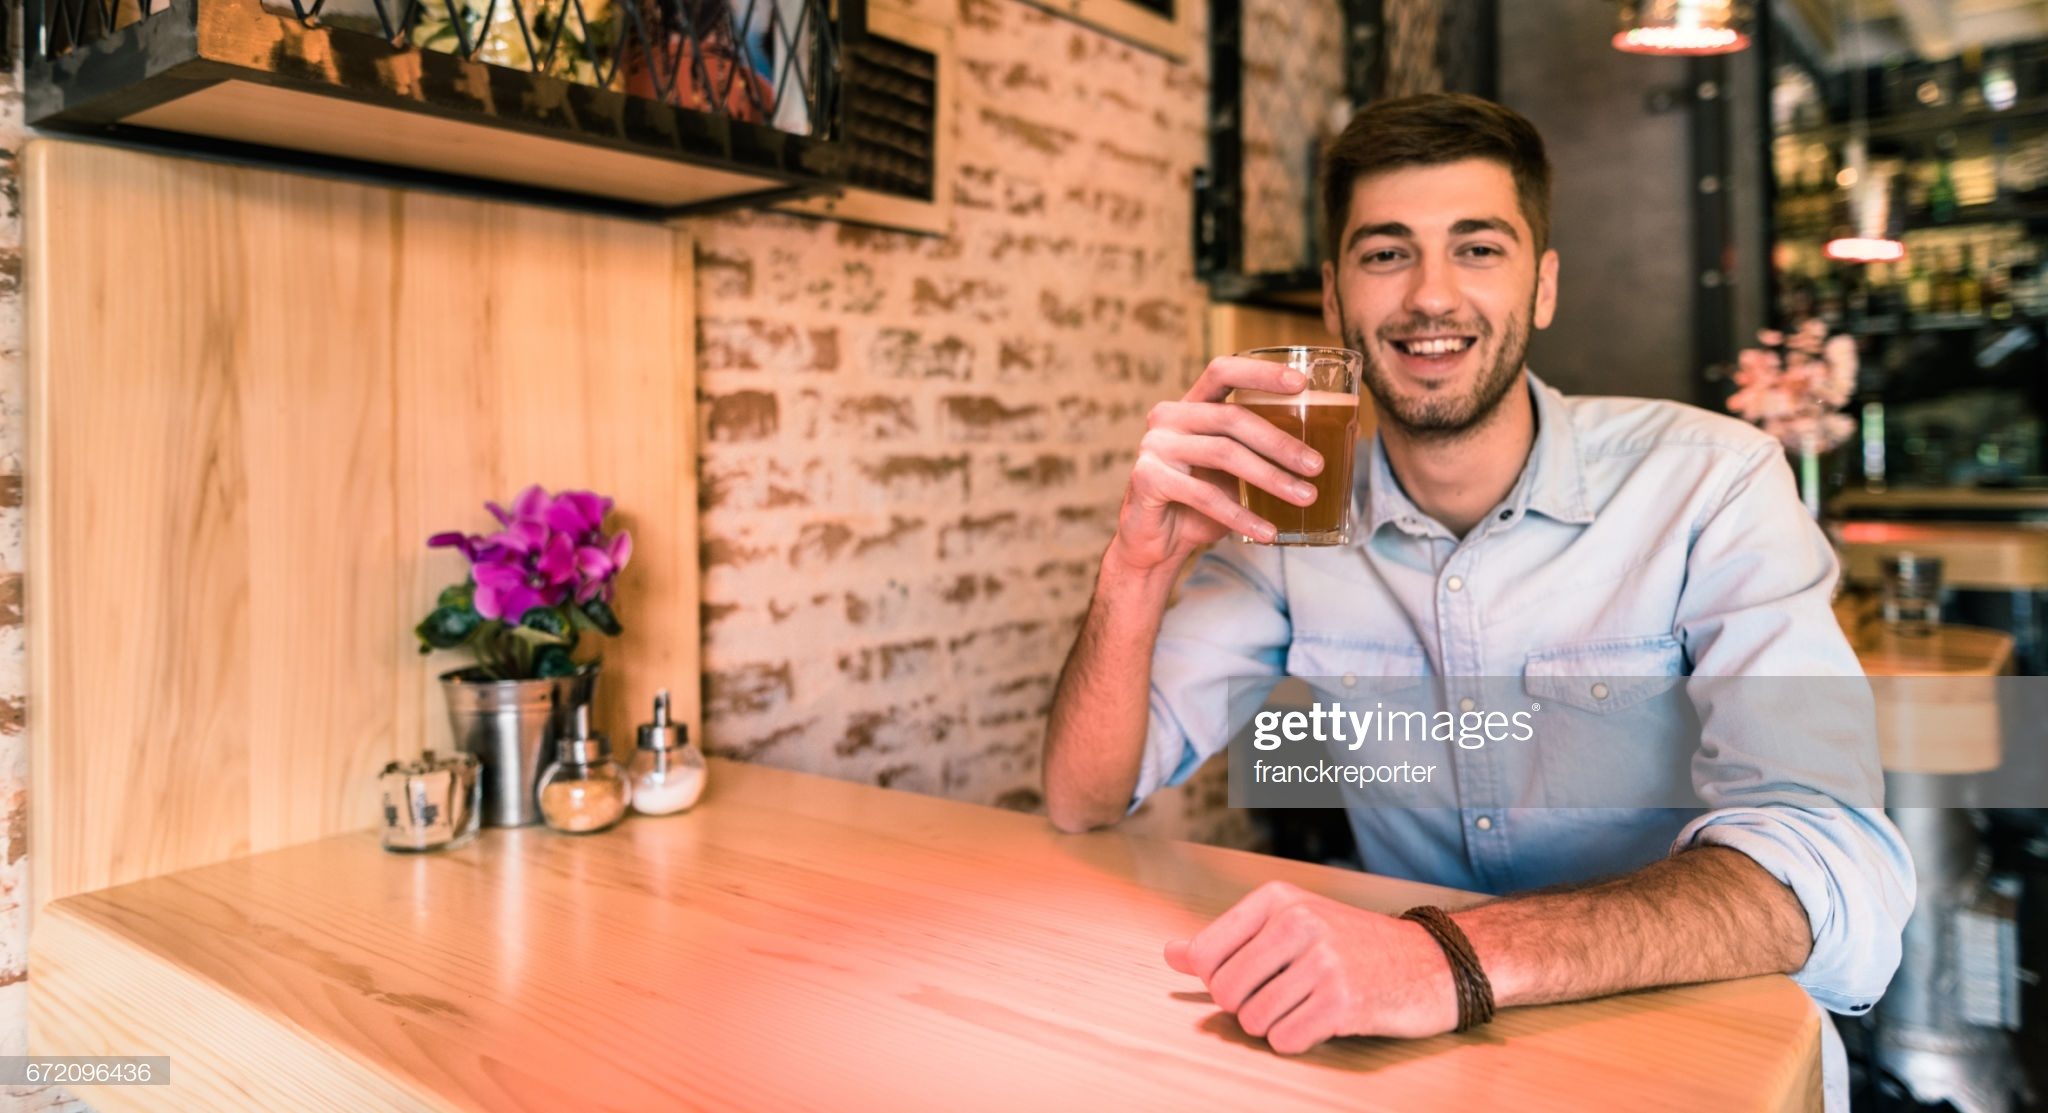glassBeer: (1227, 347, 1362, 547)
